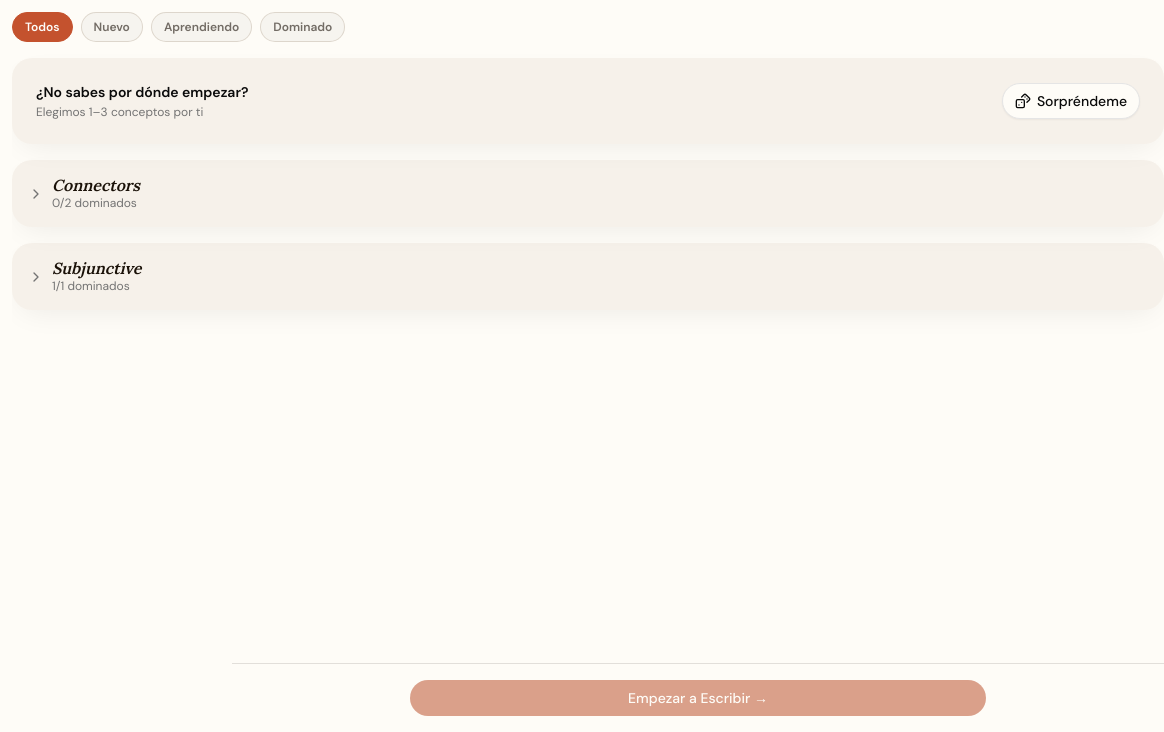
Test: ConceptPicker › mastery filter "Aprendiendo" shows empty state when no learning concepts
Step 1. Click the button "Aprendiendo" → (202, 27), box x1=151 y1=12 x2=252 y2=42
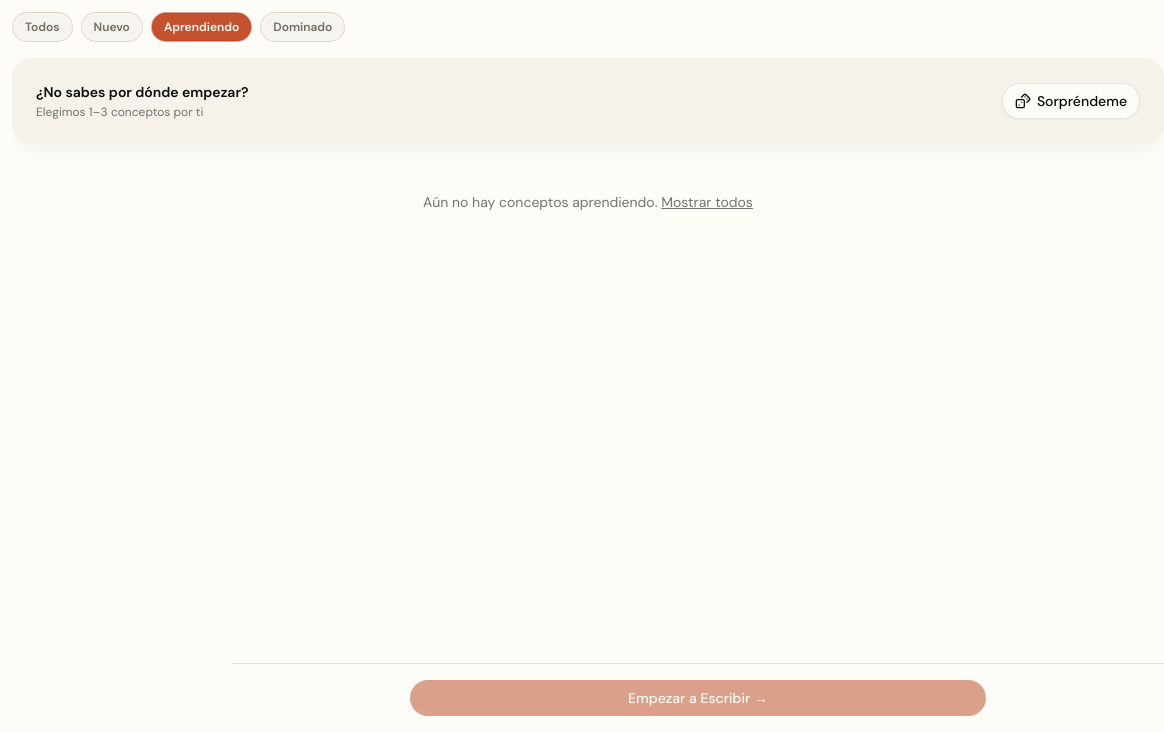
Now the text "Aún no hay conceptos aprendiendo. Mostrar todos" is shown, box x1=423 y1=192 x2=753 y2=212
Now the button "Mostrar todos" is shown, box x1=661 y1=192 x2=753 y2=212
